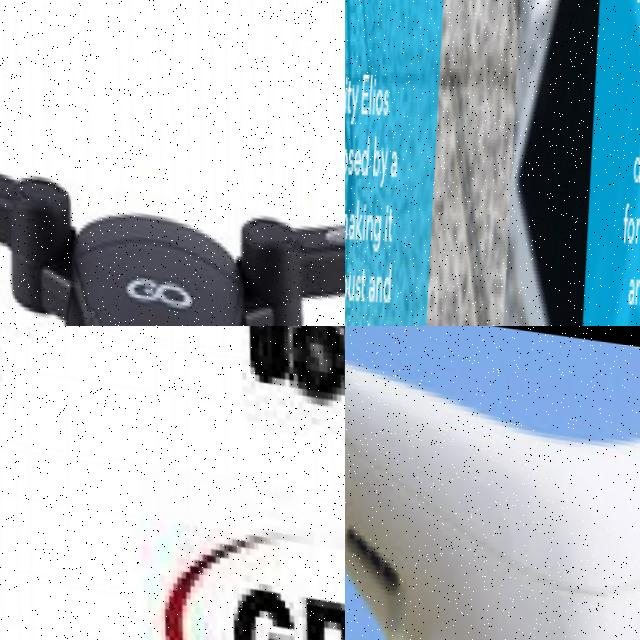drone: (0, 0, 345, 326), (0, 326, 345, 640), (345, 326, 640, 640)
